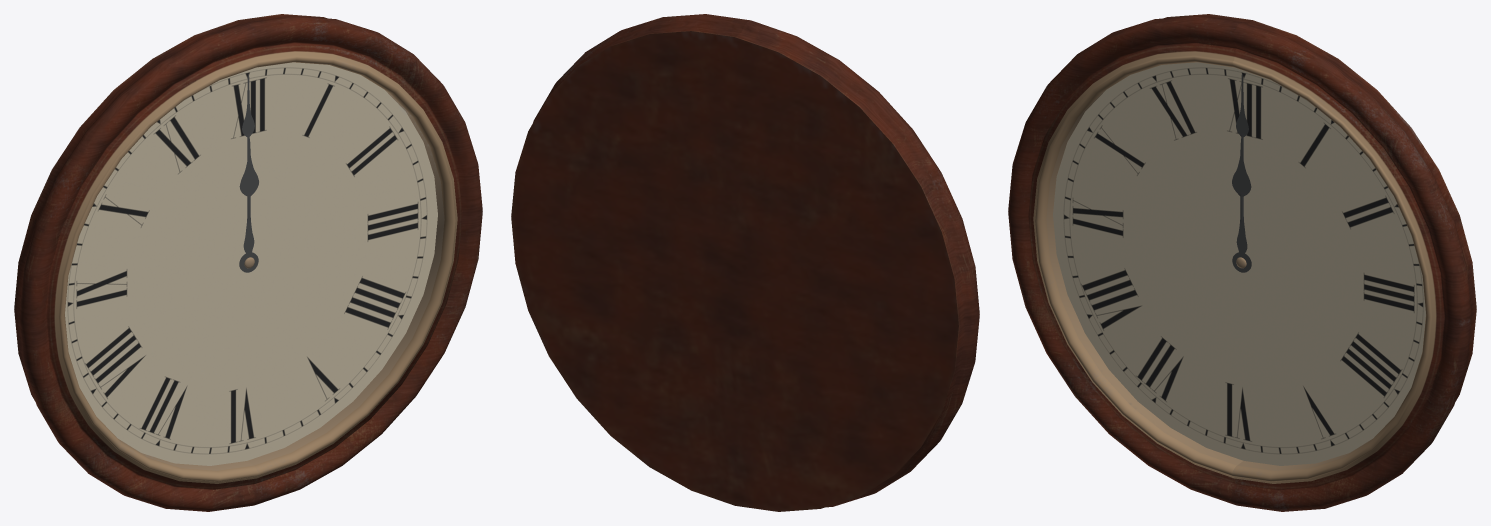
Rendered from wallclock.glb.
3 views of the same model, side by side, from view 1: azimuth 30°, elevation 25°; view 2: azimuth 150°, elevation 25°; view 3: azimuth 330°, elevation 25° (orthographic).
Parts seen in each view (by area): view 1: clock_obj_cleaner_materialmerger_gles; view 2: clock_obj_cleaner_materialmerger_gles; view 3: clock_obj_cleaner_materialmerger_gles.
Boxes of the visible parts, x1=… form: clock_obj_cleaner_materialmerger_gles: x1=14, y1=14, x2=482, y2=511; clock_obj_cleaner_materialmerger_gles: x1=511, y1=14, x2=979, y2=511; clock_obj_cleaner_materialmerger_gles: x1=1008, y1=14, x2=1476, y2=511.
Bounding box in the file's own units: 0.4 × 0.4 × 0.0308.
1 material, 1 textured.
